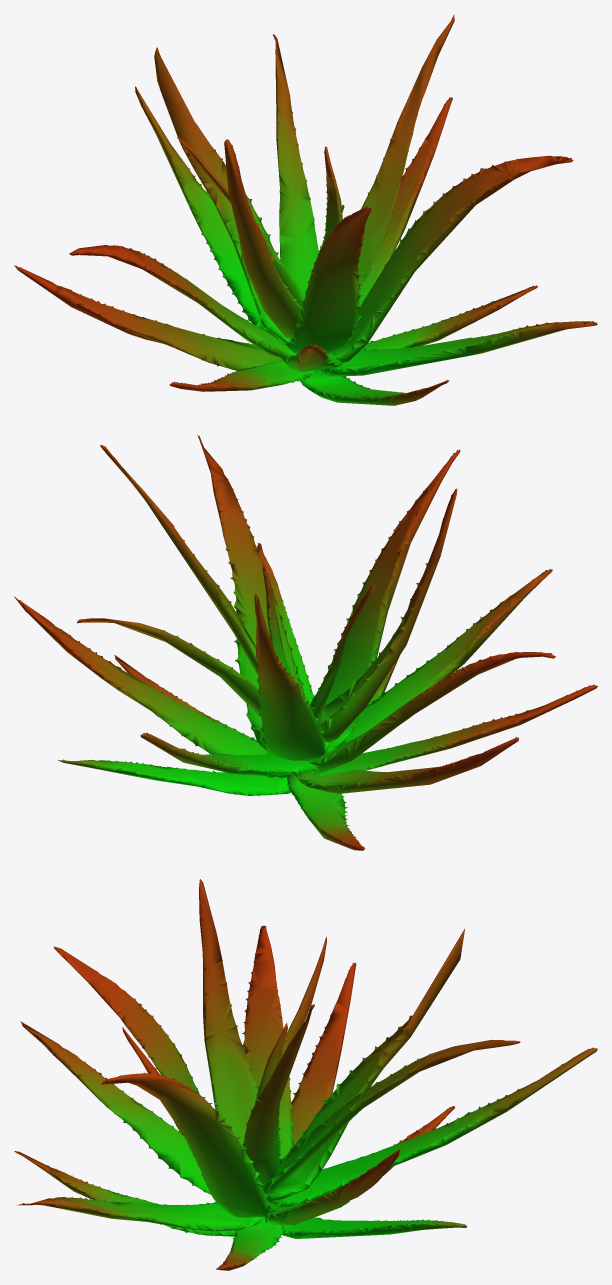
Rendered from Aloe Vera_LOD3_Var7_ve4tbbrha.fbx.
3 views of the same model, one above another, from view 1: azimuth 30°, elevation 25°; view 2: azimuth 150°, elevation 25°; view 3: azimuth 270°, elevation 25° (orthographic). The views are drawn at different scales.
Visible parts, largest first — view 1: _gtr1_Var7_LOD3; view 2: _gtr1_Var7_LOD3; view 3: _gtr1_Var7_LOD3.
Part boxes in pixels (left/top/right/bottom): _gtr1_Var7_LOD3: left=14, top=14, right=597, bottom=405; _gtr1_Var7_LOD3: left=14, top=434, right=597, bottom=850; _gtr1_Var7_LOD3: left=14, top=879, right=597, bottom=1270.
Size of the model in its own units: 61.05 by 39.09 by 66.52.
